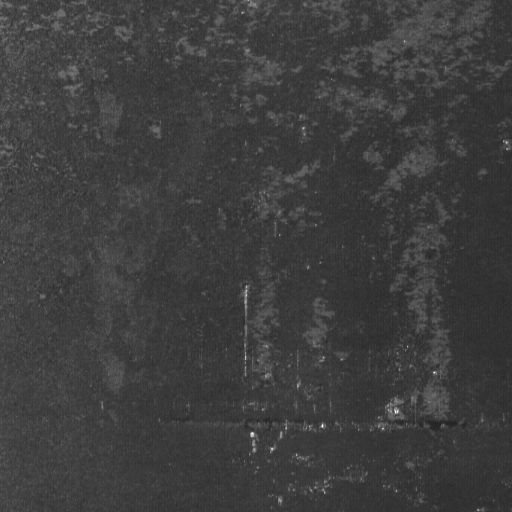hengxiangliewen: (161, 400, 486, 437)
